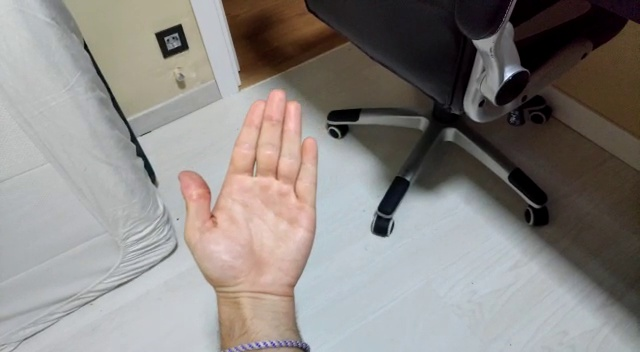Palm: (178, 91, 323, 301)
